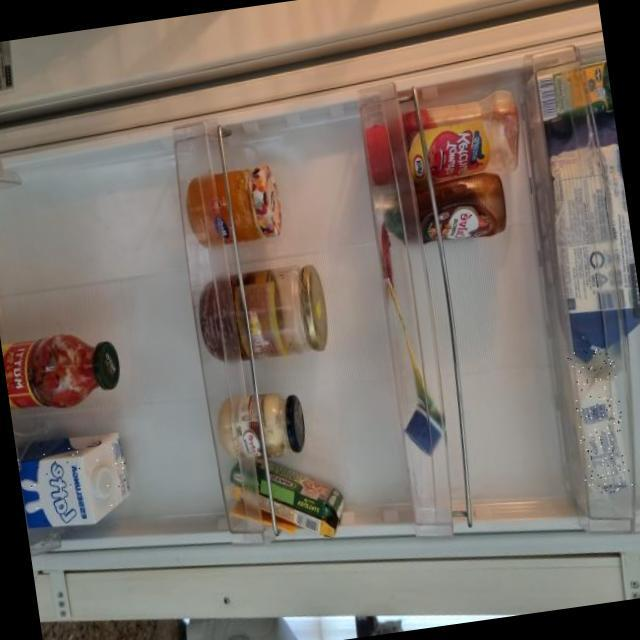Mantequilla: (567, 346, 633, 496)
milk: (15, 433, 136, 534)
